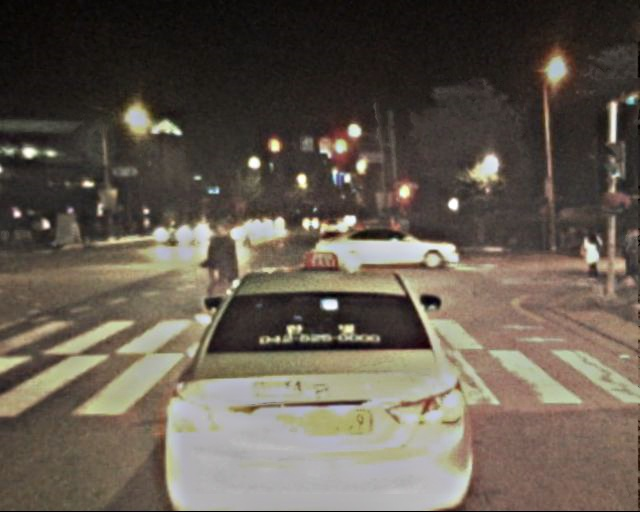person: (198, 217, 245, 332), (580, 225, 605, 285), (620, 223, 640, 286)
